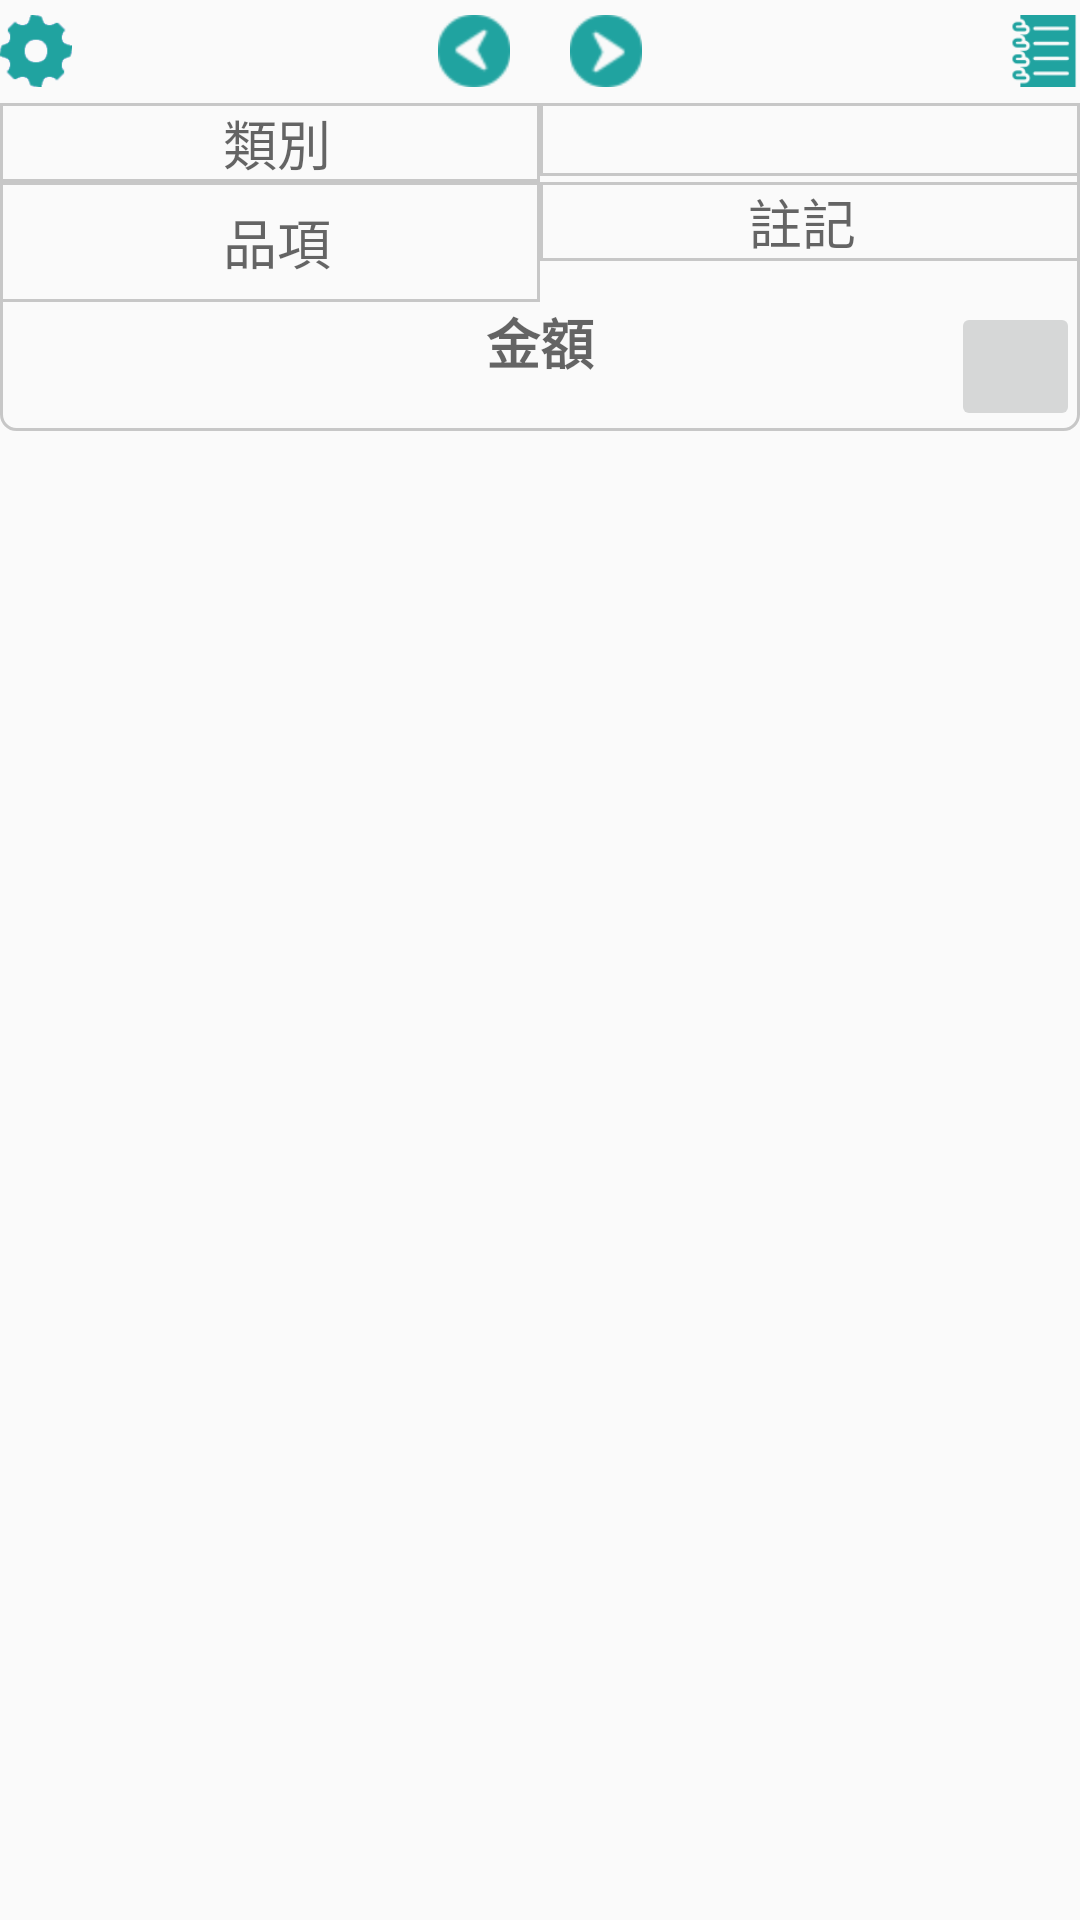

Where icons sit on this 1080 x 1920 app screen, as (x1, y1, x2, y2):
book: (1012, 15, 1076, 87)
left: (438, 15, 510, 87)
right: (570, 15, 642, 87)
tools: (0, 15, 72, 87)
